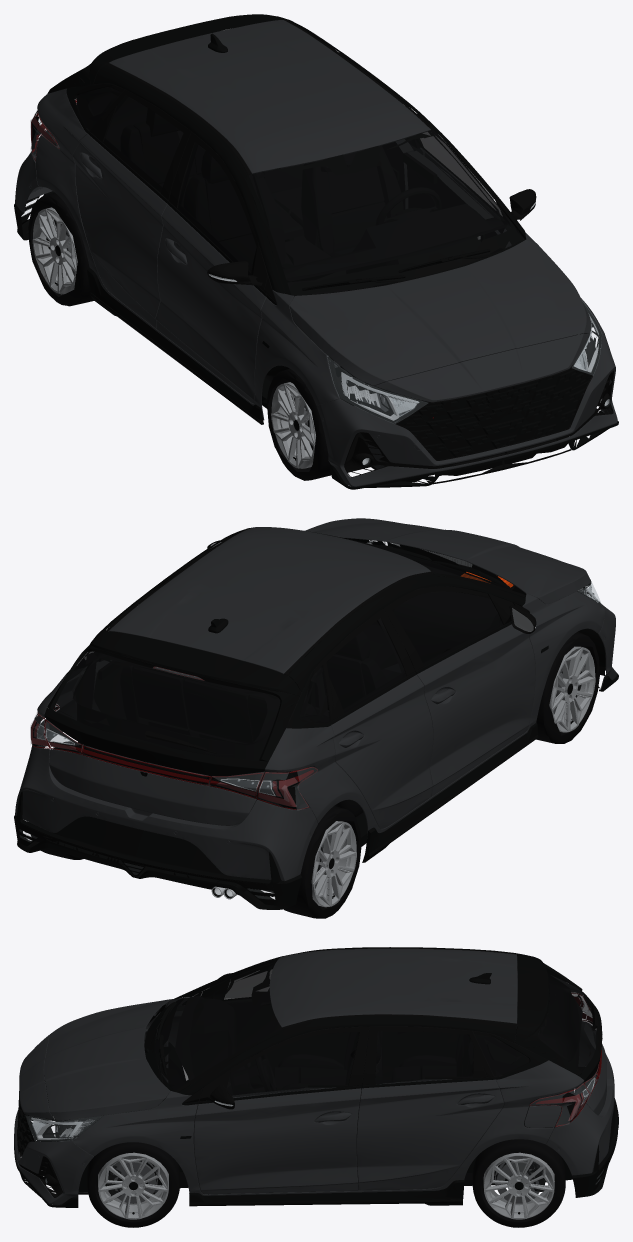
The model's file is nova-leoes-hatch-v2.glb.
The picture shows the model from 3 angles, top to bottom: view 1: azimuth 30°, elevation 25°; view 2: azimuth 150°, elevation 25°; view 3: azimuth 270°, elevation 25°; orthographic projection. The views are drawn at different scales.
Parts seen in each view (by area): view 1: NL_CARROCERIA_PINTURA, NL_CARROCERIA_VIDRO, NL_CARROCERIA_INTERIOR, NL_CAPO_PINTURA, NL_CARROCERIA_PRETO, NL_CARROCERIA_PLASTICO, NL_GRADE_PRETO, NL_CARROCERIA_RODA, NL_CARROCERIA_PNEU, NL_CARROCERIA_LENTE, NL_CARROCERIA_CROMO, NL_PORTA_DE_FORRO_INTERIOR (+5 smaller); view 2: NL_CARROCERIA_PINTURA, NL_CARROCERIA_PRETO, NL_CARROCERIA_VIDRO, NL_CARROCERIA_INTERIOR, NL_CARROCERIA_PLASTICO, NL_CAPO_PINTURA, NL_CARROCERIA_RODA, NL_CARROCERIA_PNEU, NL_CARROCERIA_LENTE, NL_CARROCERIA_LANTERNA, NL_PORTA_TE_FORRO_INTERIOR, NL_CARROCERIA_CROMO; view 3: NL_CARROCERIA_PINTURA, NL_CARROCERIA_INTERIOR, NL_CARROCERIA_PRETO, NL_PORTA_DE_PINTURA, NL_CARROCERIA_VIDRO, NL_PORTA_TE_PINTURA, NL_CAPO_PINTURA, NL_CARROCERIA_PLASTICO, NL_PORTA_DE_VIDRO, NL_PARALAMA_DE_PINTURA, NL_PORTA_TE_VIDRO, NL_RODA_TE_RODA (+16 smaller).
Boxes of the visible parts, box(x1,y1,x2,y2) form: NL_CARROCERIA_PINTURA: box(15, 20, 617, 486); NL_CARROCERIA_VIDRO: box(77, 29, 524, 295); NL_CARROCERIA_INTERIOR: box(75, 83, 507, 382); NL_CAPO_PINTURA: box(289, 239, 591, 385); NL_CARROCERIA_PRETO: box(14, 14, 618, 489); NL_CARROCERIA_PLASTICO: box(31, 20, 613, 484); NL_GRADE_PRETO: box(395, 368, 591, 459); NL_CARROCERIA_RODA: box(32, 207, 315, 468); NL_CARROCERIA_PNEU: box(28, 192, 337, 480); NL_CARROCERIA_LENTE: box(22, 110, 610, 464); NL_CARROCERIA_CROMO: box(37, 116, 609, 464); NL_PORTA_DE_FORRO_INTERIOR: box(407, 165, 502, 253); NL_CARROCERIA_PINTURA: box(15, 527, 617, 880); NL_CARROCERIA_PRETO: box(14, 527, 618, 909); NL_CARROCERIA_VIDRO: box(53, 530, 501, 760); NL_CARROCERIA_INTERIOR: box(73, 565, 502, 817); NL_CARROCERIA_PLASTICO: box(19, 528, 612, 889); NL_CAPO_PINTURA: box(305, 518, 591, 604); NL_CARROCERIA_RODA: box(311, 646, 595, 907); NL_CARROCERIA_PNEU: box(284, 631, 599, 918); NL_CARROCERIA_LENTE: box(20, 582, 601, 899); NL_CARROCERIA_LANTERNA: box(31, 666, 317, 809); NL_PORTA_TE_FORRO_INTERIOR: box(94, 666, 125, 717); NL_CARROCERIA_CROMO: box(37, 541, 598, 796); NL_CARROCERIA_PINTURA: box(14, 948, 614, 1205); NL_CARROCERIA_INTERIOR: box(175, 961, 582, 1153); NL_CARROCERIA_PRETO: box(14, 947, 618, 1207); NL_PORTA_DE_PINTURA: box(194, 1088, 361, 1194); NL_CARROCERIA_VIDRO: box(155, 957, 597, 1090); NL_PORTA_TE_PINTURA: box(357, 1079, 503, 1190); NL_CAPO_PINTURA: box(44, 999, 170, 1120); NL_CARROCERIA_PLASTICO: box(17, 948, 618, 1204); NL_PORTA_DE_VIDRO: box(227, 1032, 358, 1097); NL_PARALAMA_DE_PINTURA: box(73, 1091, 208, 1195); NL_PORTA_TE_VIDRO: box(375, 1031, 473, 1083); NL_RODA_TE_RODA: box(483, 1152, 554, 1219).
Size of the model in its own units: 2.02 by 1.47 by 4.
